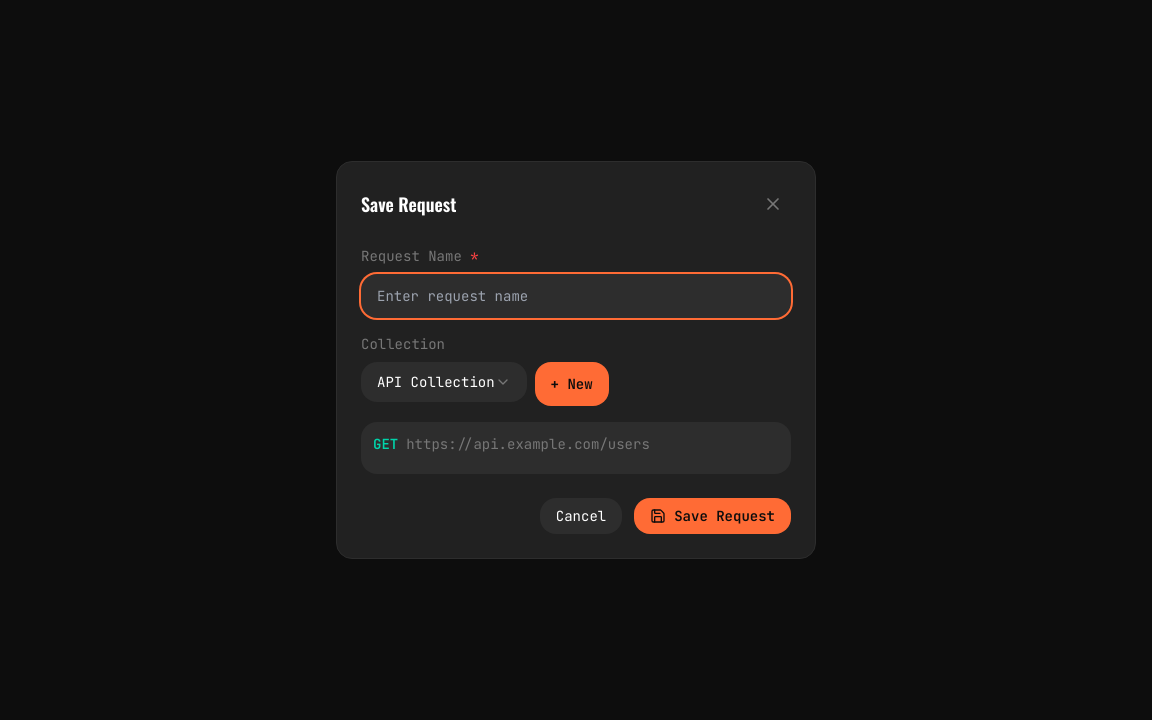
Test: SaveRequestModal › shows error when saving without request name
The width and height of the screenshot is (1152, 720).
Step 1. Click the button "Save Request" → (713, 516), box left=634, top=498, right=791, bottom=534
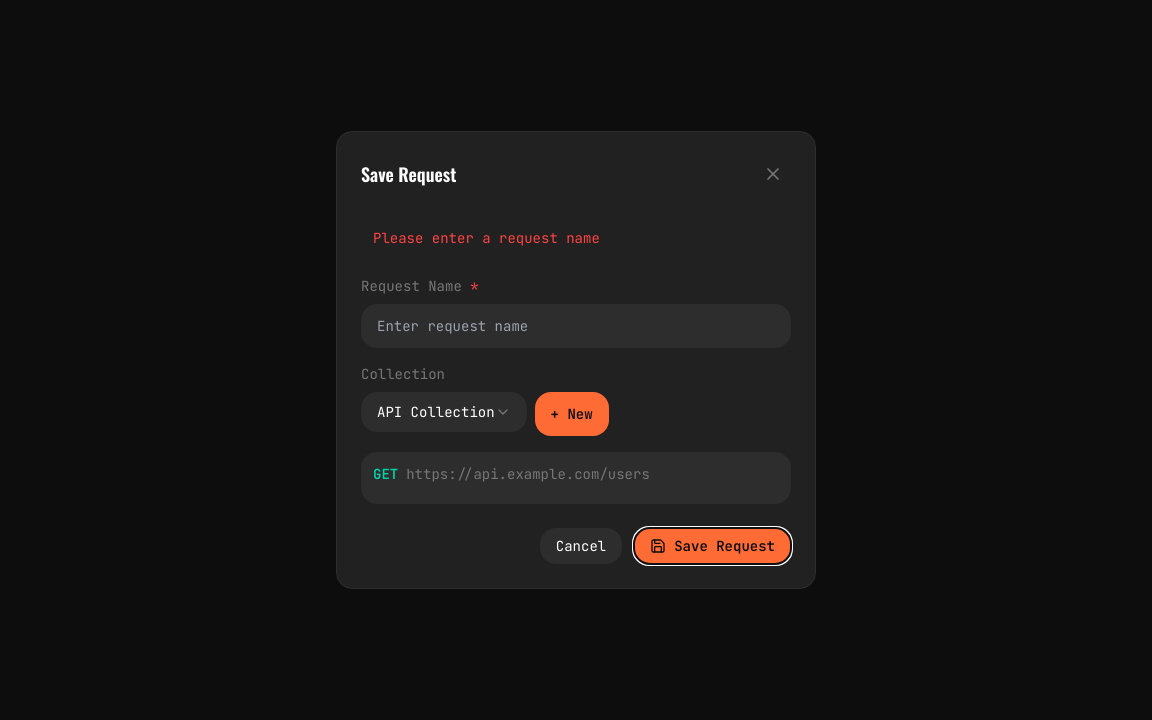
expect the text "Please enter a request name" is shown: met, box left=373, top=229, right=600, bottom=247
